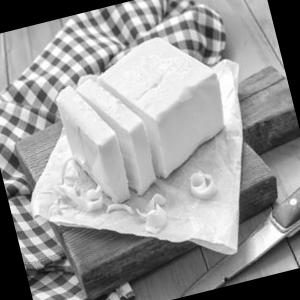butter: (42, 38, 235, 202)
